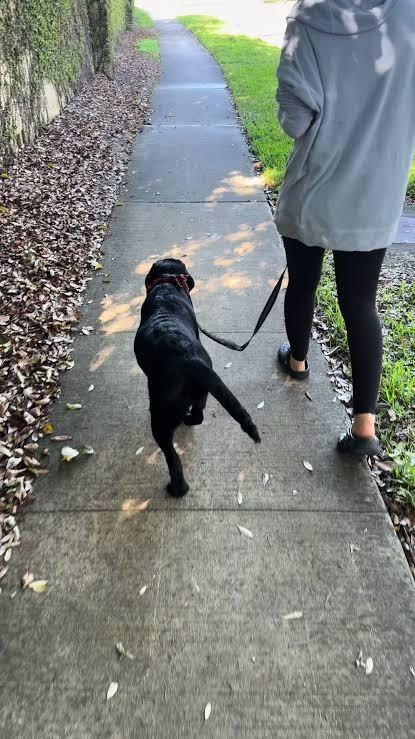adult_dog: (133, 256, 264, 497)
non-dog: (274, 0, 415, 460)
